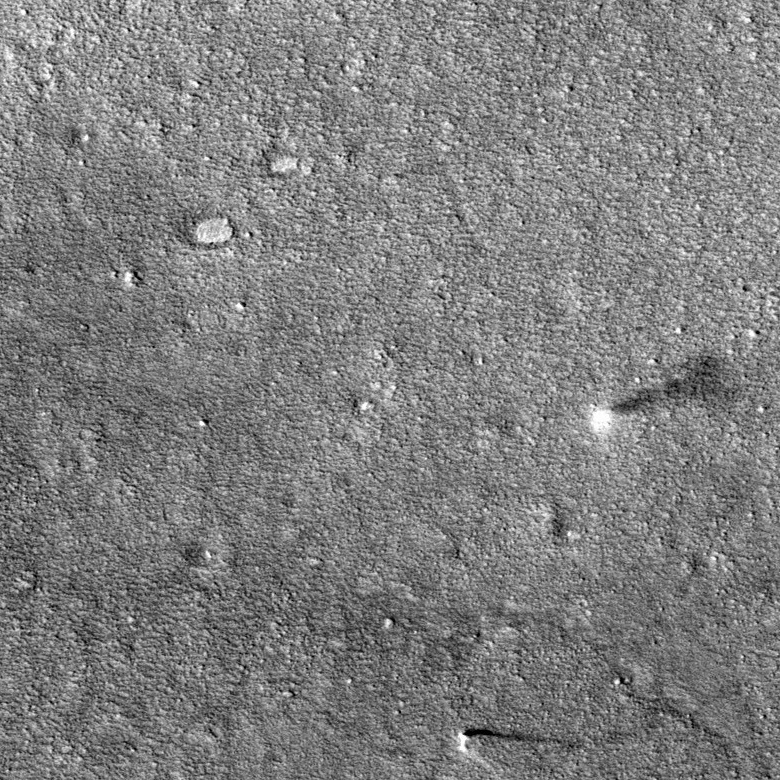dust_devil: (585, 344, 743, 440), (454, 725, 574, 755)
